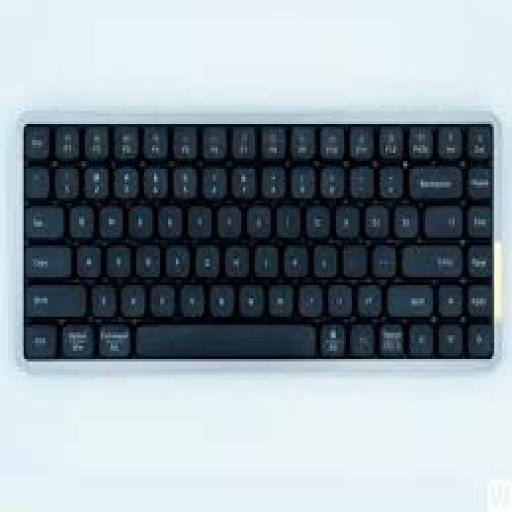KEYBOARD-2: (16, 111, 500, 372)
